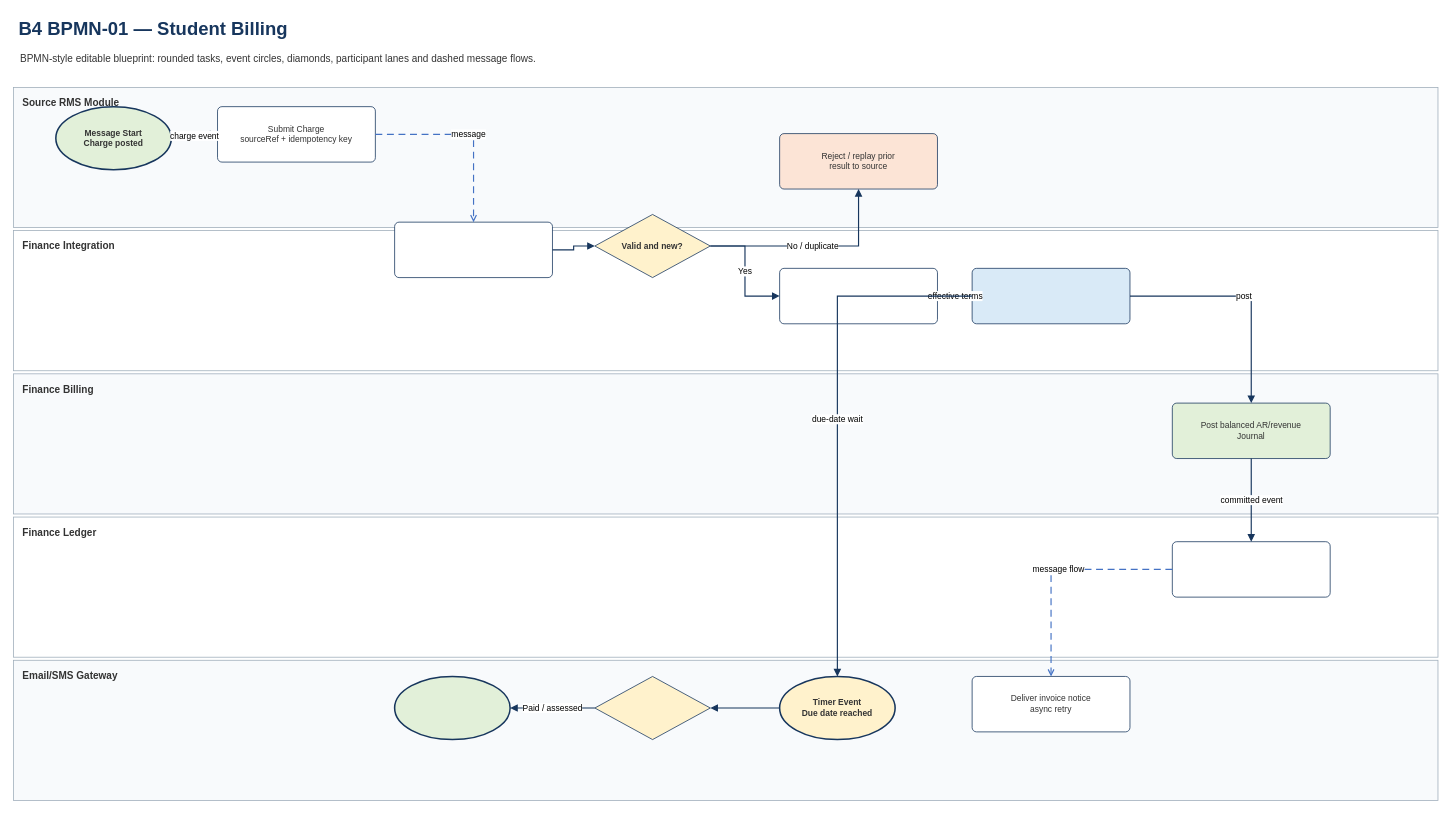
This 1451x814 diagram has some shape labels left out. The shapes that lost their labels are listed below. From the top down, each one's centre as x and y in pixels, then its label:
At point 473,249: "Authenticate & validate source, item, currency".
At point 858,296: "Resolve effective fee schedule and due date".
At point 1050,296: "Create Charge + Invoice issue immediately".
At point 1251,569: "Commit notice to transactional outbox".
At point 452,707: "End Event Invoice issued / follow-up".
At point 652,708: "Outstanding > tolerance? apply configured penalty".
